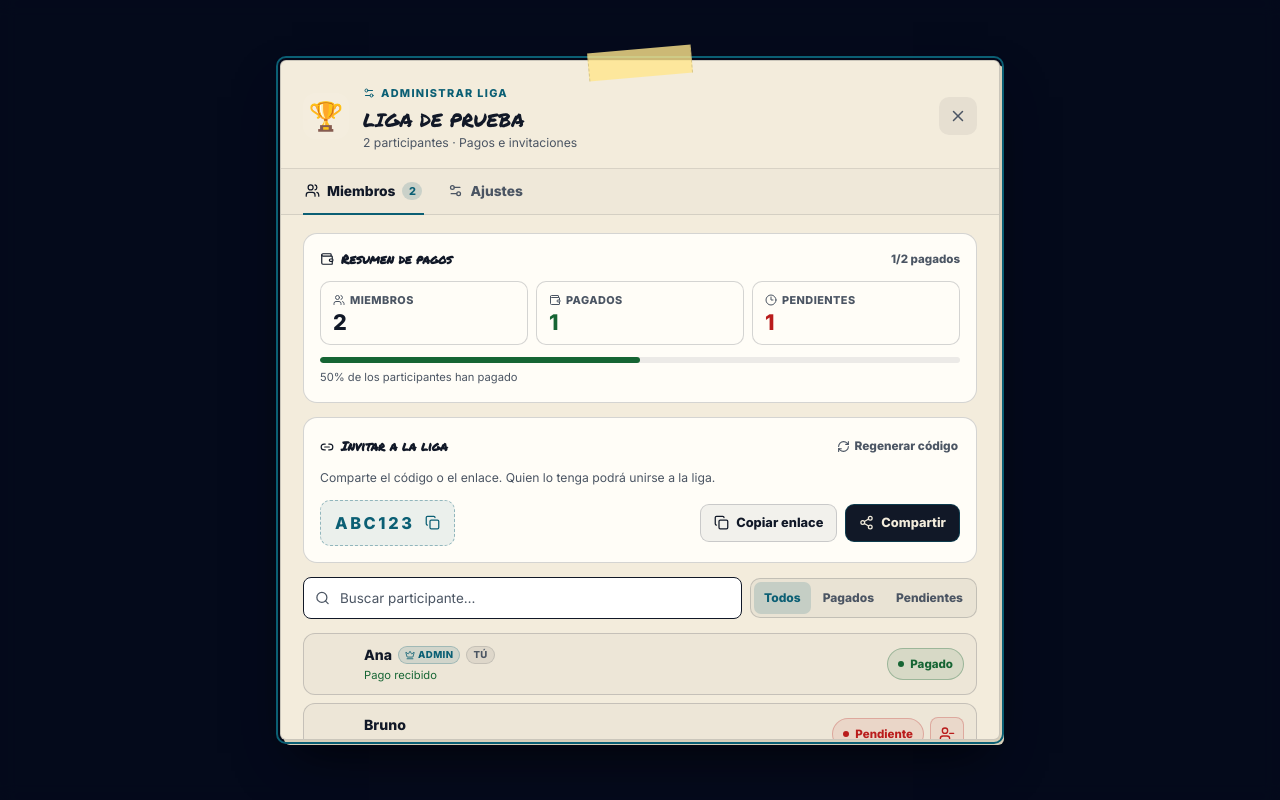
Test: GroupMembersModal › muestra la puntuación fija, sin campos, cuando la liga no se puede cambiar
This screenshot has width=1280, height=800.
Expected: the text "Bruno" is shown, [364, 714, 406, 735]
Click the tab "Ajustes" at coordinates (486, 192), box [446, 169, 525, 215]
(page scrolled)
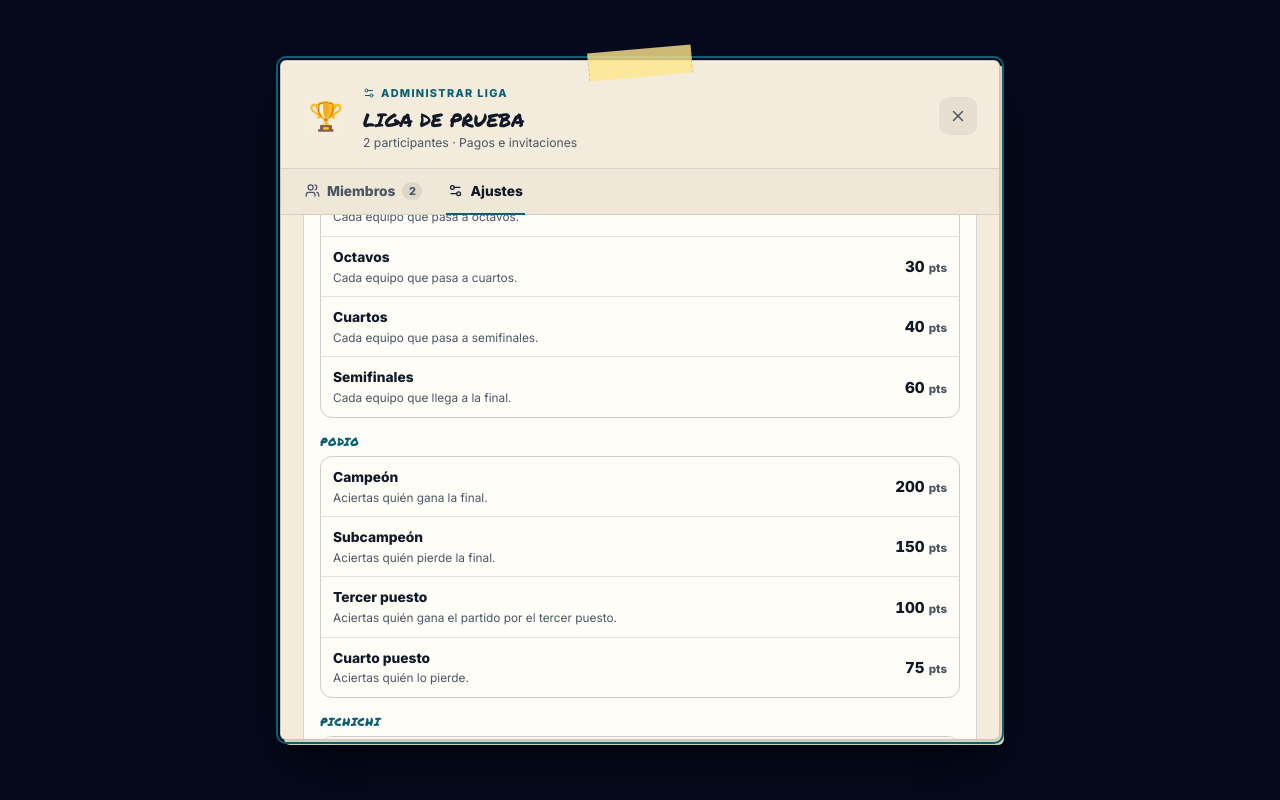
Expected: the text "Campeón" is shown, [333, 469, 398, 485]
